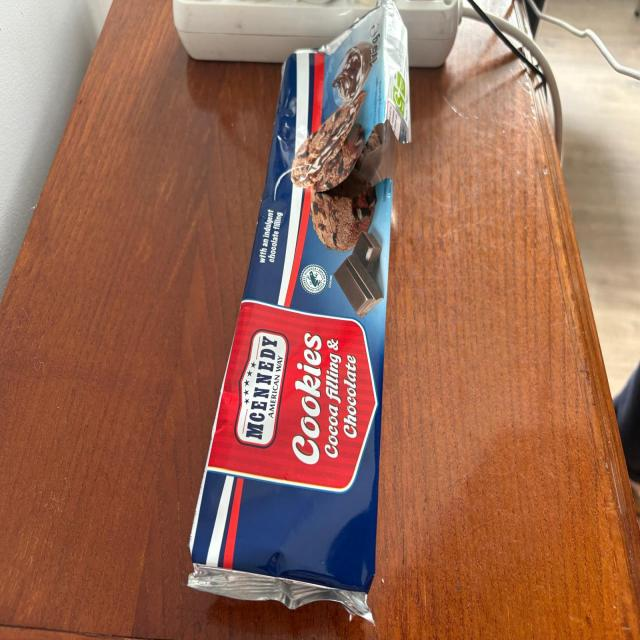damaged_package: (185, 0, 415, 626)
